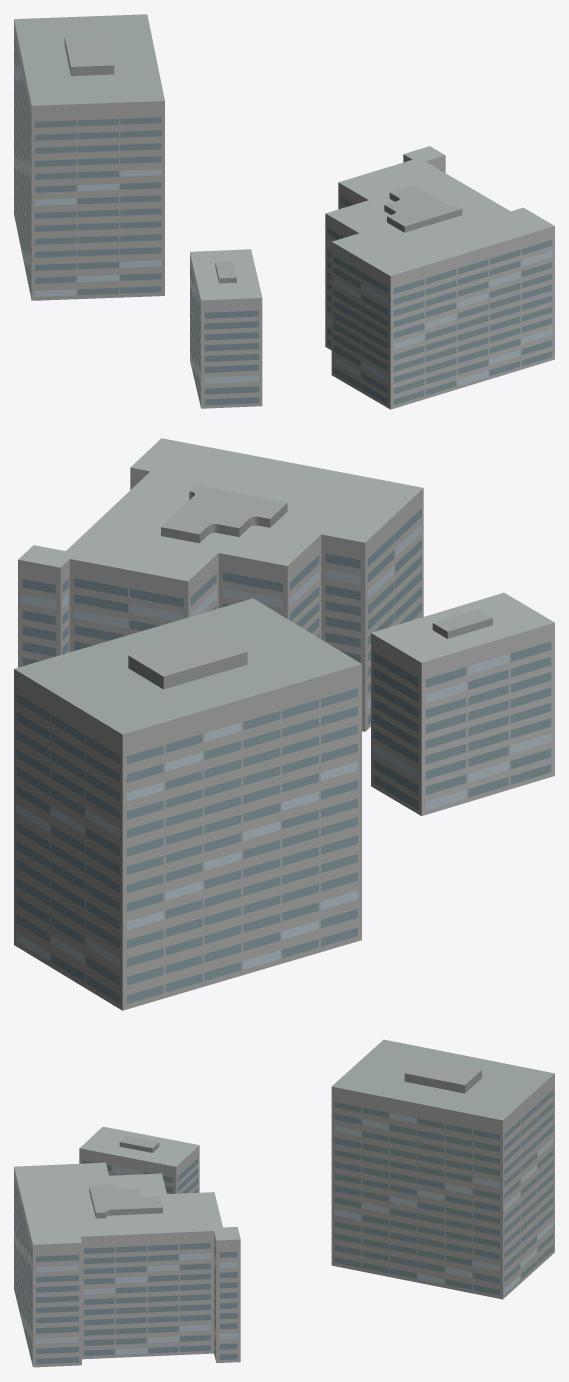
File: apt-a13292501.glb
3 renders of one model, top to bottom at view 1: azimuth 30°, elevation 25°; view 2: azimuth 150°, elevation 25°; view 3: azimuth 270°, elevation 25°, orthographic. The views are drawn at different scales.
Visible parts, largest first — view 1: apt-a13292501; view 2: apt-a13292501; view 3: apt-a13292501.
Part boxes in pixels (<box>): apt-a13292501: <box>14,14,554,409</box>; apt-a13292501: <box>14,438,554,1010</box>; apt-a13292501: <box>14,1039,554,1367</box>.
Size of the model in its own units: 92.05 by 54 by 141.
